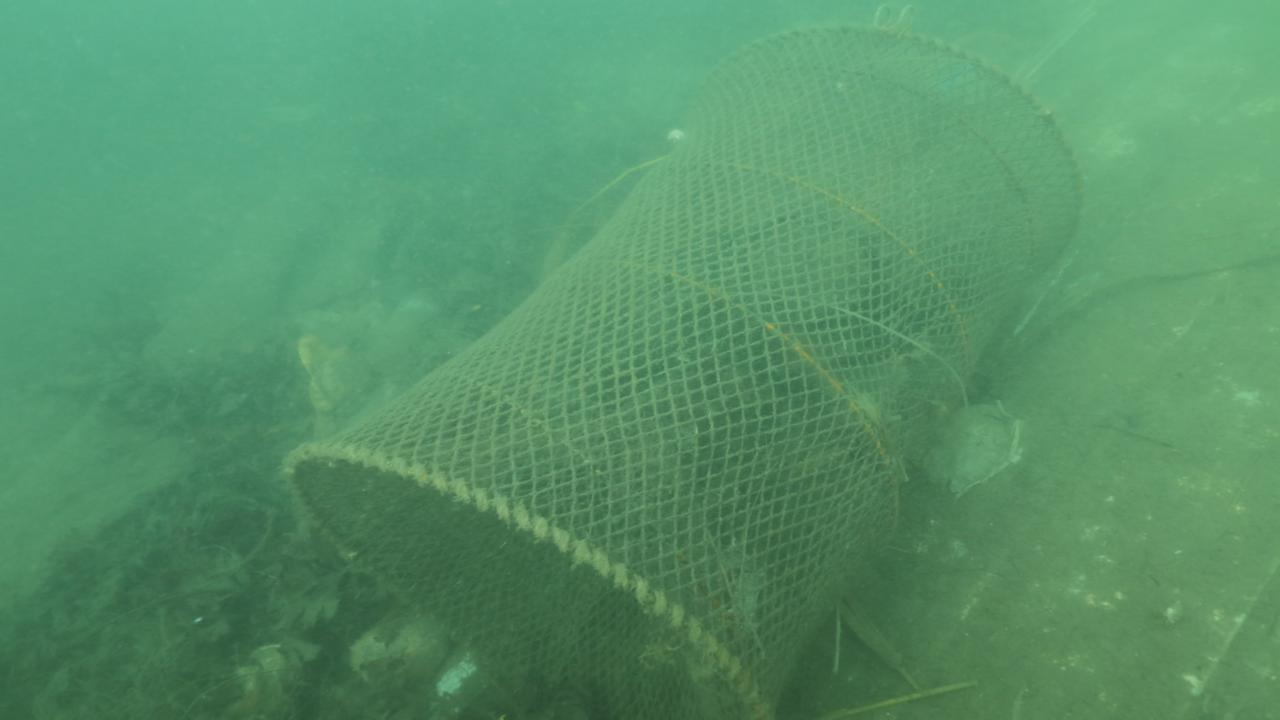spring fish trap: (278, 28, 1080, 720)
